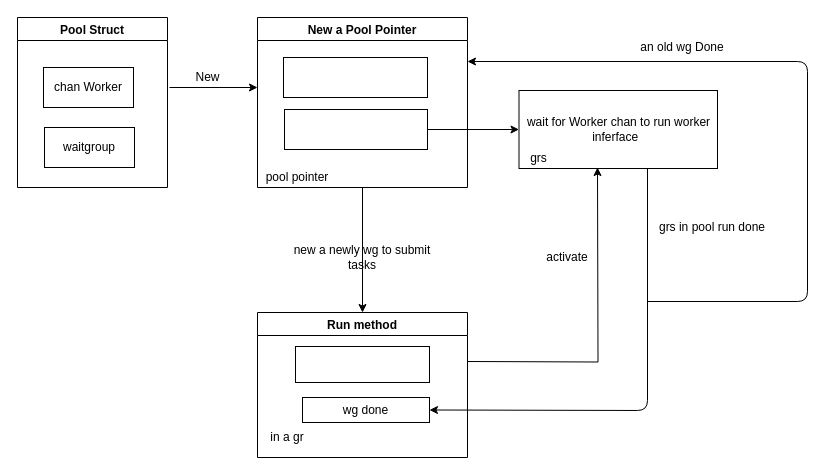
The diagram is 833 pixels wide and 475 high, and some of its shapes have lost their labels. The centre of each missing label's shape, as x and y in pixels:
"add maxgrs to waitgroup" belongs at pixel 356 129.
"send a function to worker chan" belongs at pixel 362 364.
"unbuffered worker chan" belongs at pixel 355 77.
